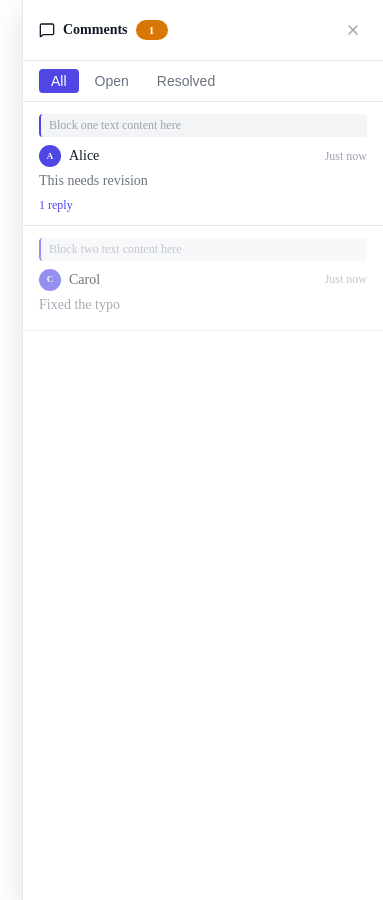
Test: CommentsSidebar › filters to show only resolved comments
Click the tab "Resolved" at [186, 81], box [145,69,227,93]
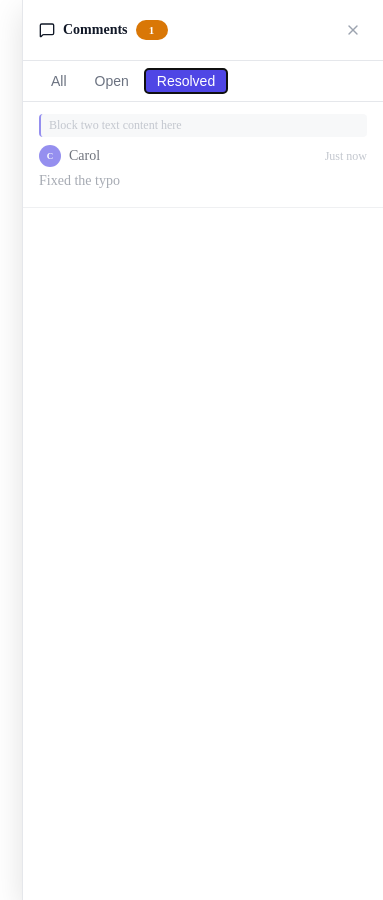
Expected: the text "Fixed the typo" is shown, [39,173,120,188]
Now the button "This needs revision" is gone
